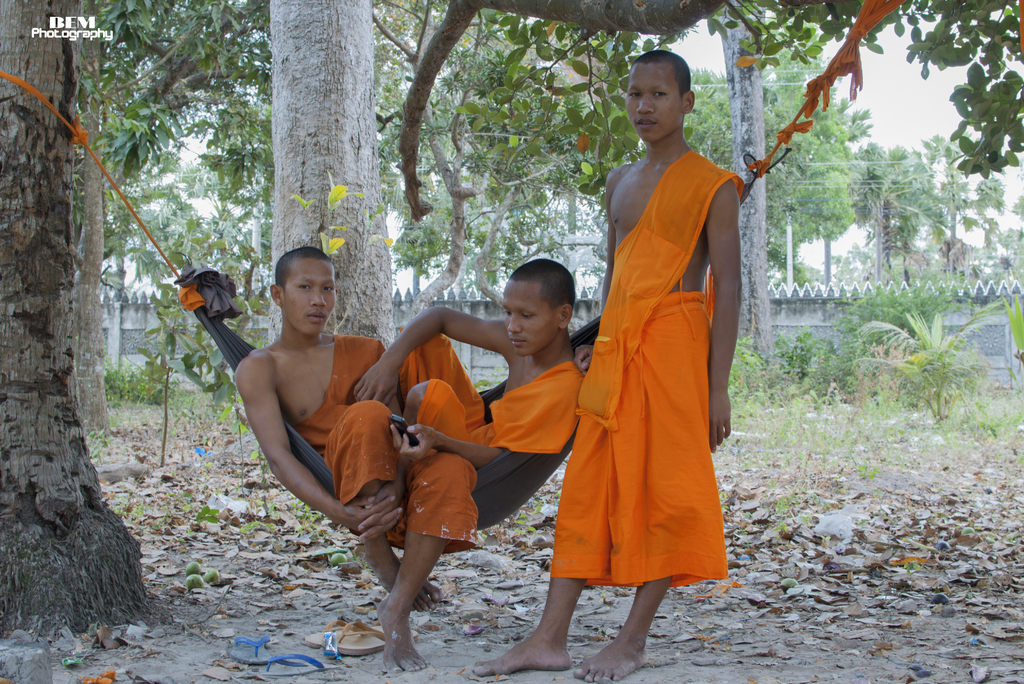Person: (352, 258, 583, 466)
